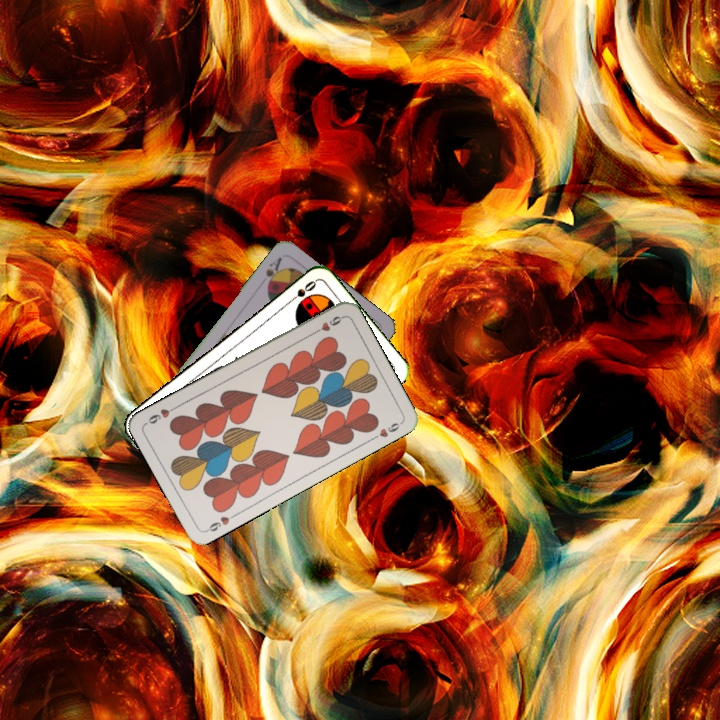H9: (308, 312, 346, 337), (202, 510, 239, 535)
SA: (262, 253, 285, 290)
SO: (284, 277, 319, 306)
